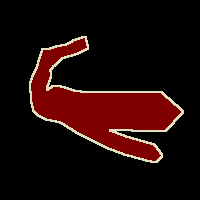tie: (30, 36, 183, 162)
